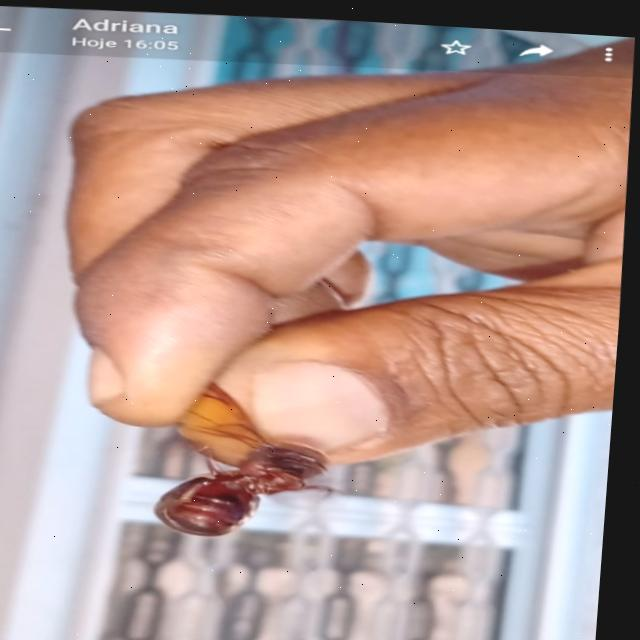Alive-Female-Alate: (124, 356, 351, 541)
